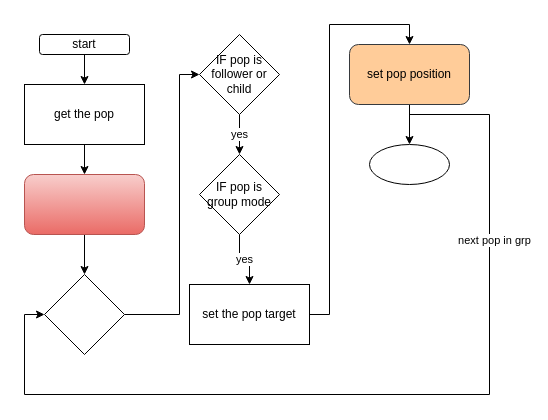
Image size: 548x420. Some labels were removed from this diagram. Each missing label, with the box of its shape:
call destinationReach for leader: (24, 174, 144, 234)
end: (368, 144, 450, 184)
FOR pop grp family: (44, 274, 124, 354)
